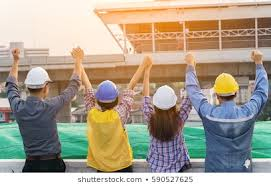Person_wearing_helmet: (21, 63, 56, 93)
